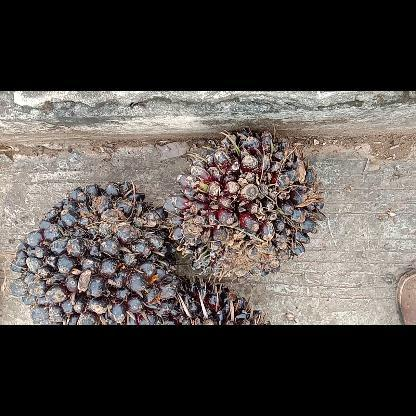TBS mentah: (12, 182, 182, 324), (168, 128, 328, 276)
